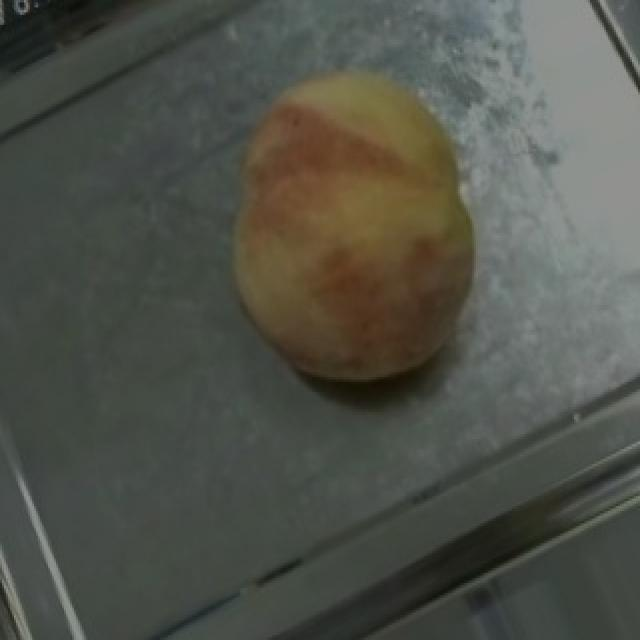Fruit: (192, 22, 524, 424)
